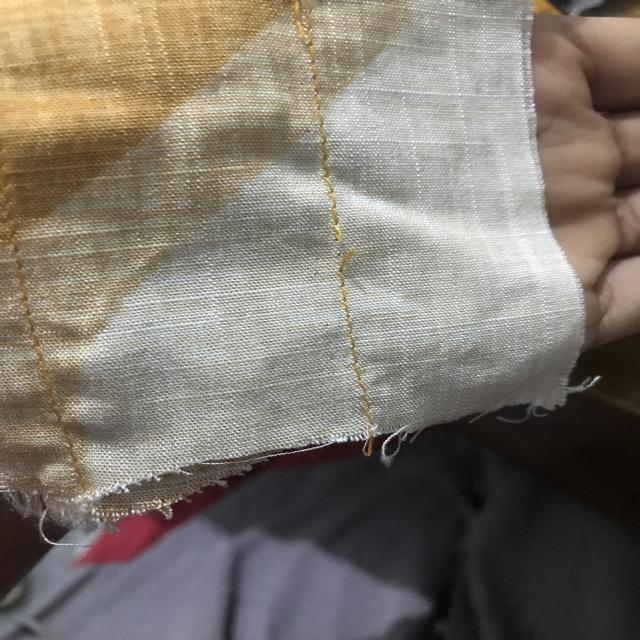broken: (314, 214, 360, 280)
good: (303, 110, 353, 194)
